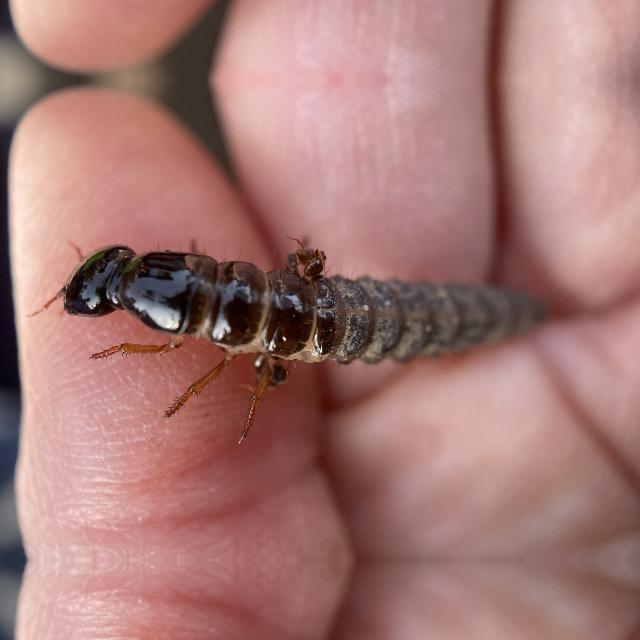Tetramorium: (282, 232, 334, 278)
